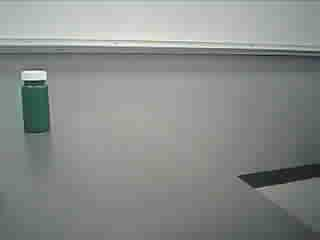Bottle C: (14, 65, 59, 138)
